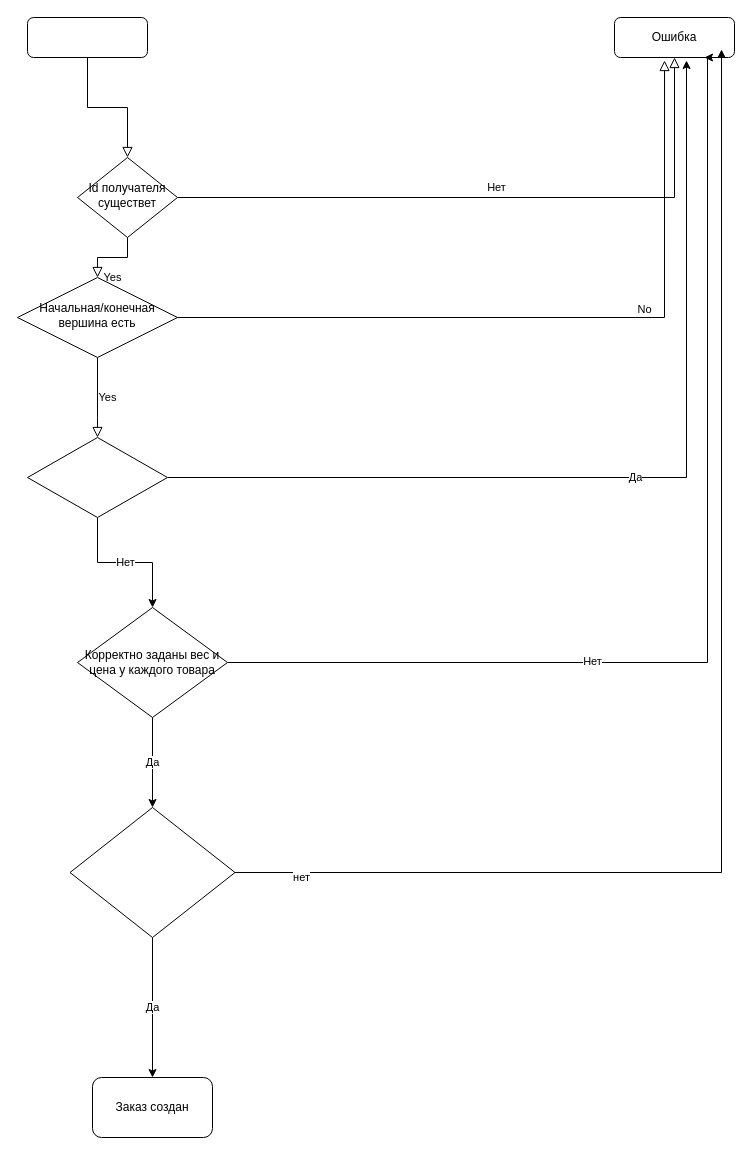
The diagram is 752 pixels wide and 1155 high, and some of its shapes have lost their labels. Each missing label, with the centre of its shape:
Начальная вершина больше конечной: (x=97, y=477)
Создать заказ: (x=87, y=37)
Существует путь доставки: (x=152, y=872)
